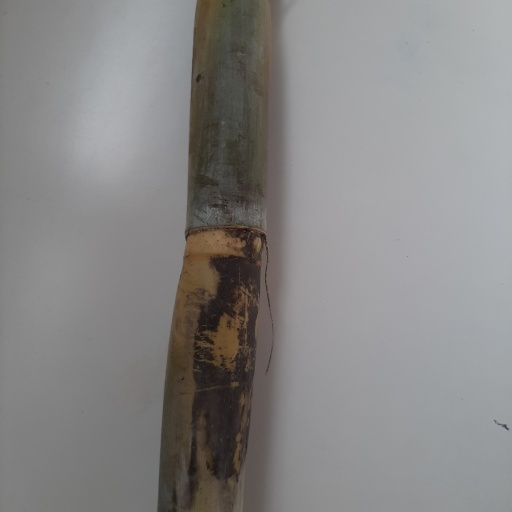Bud: (245, 232, 262, 261)
